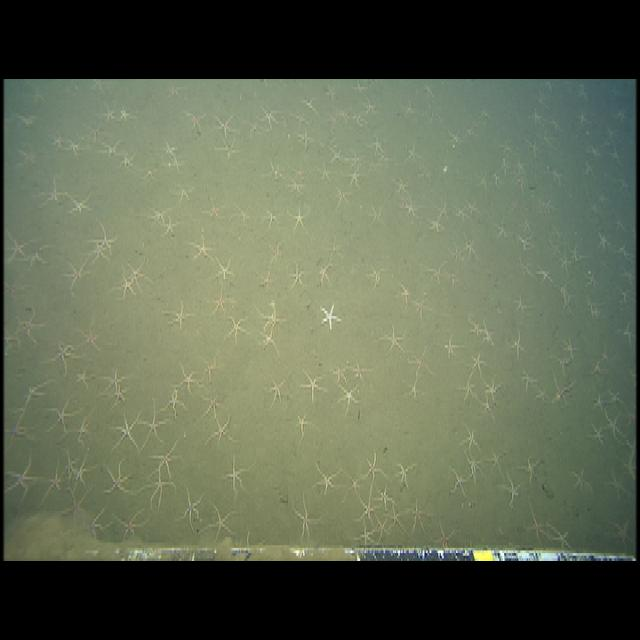Brittle Star: (4, 453, 40, 506), (173, 480, 207, 534), (220, 449, 256, 500), (290, 491, 325, 543), (136, 398, 170, 448), (147, 437, 185, 481), (204, 499, 239, 545), (43, 394, 80, 437), (101, 458, 139, 499), (14, 304, 48, 348), (522, 499, 553, 547), (309, 457, 343, 499), (111, 507, 149, 544), (60, 254, 94, 295), (204, 411, 239, 450), (262, 369, 294, 411), (44, 337, 80, 374), (376, 319, 410, 358), (75, 316, 106, 357), (4, 226, 34, 268), (202, 282, 235, 320), (297, 363, 328, 403), (406, 342, 436, 382), (548, 371, 577, 411), (516, 450, 546, 488), (406, 494, 432, 537), (391, 454, 420, 492), (64, 188, 96, 222), (360, 448, 388, 486), (607, 514, 635, 552), (222, 312, 254, 345), (604, 465, 631, 504), (568, 462, 596, 499), (334, 381, 363, 416), (174, 359, 203, 394), (498, 469, 524, 508), (198, 348, 226, 384), (446, 462, 473, 499), (291, 408, 320, 442), (354, 497, 378, 538), (253, 325, 283, 357), (439, 329, 465, 364), (255, 303, 288, 330), (286, 203, 313, 236), (364, 258, 390, 292), (424, 257, 450, 290), (455, 372, 480, 406), (505, 328, 530, 362), (458, 422, 483, 456), (432, 518, 459, 549), (385, 500, 408, 536), (549, 523, 576, 553), (412, 291, 436, 323), (286, 260, 310, 292), (509, 291, 536, 319), (602, 412, 626, 443), (314, 258, 337, 290), (393, 278, 416, 309), (585, 419, 608, 449), (466, 349, 489, 379), (534, 262, 556, 288), (465, 313, 485, 341), (356, 523, 375, 548), (374, 515, 389, 544)
